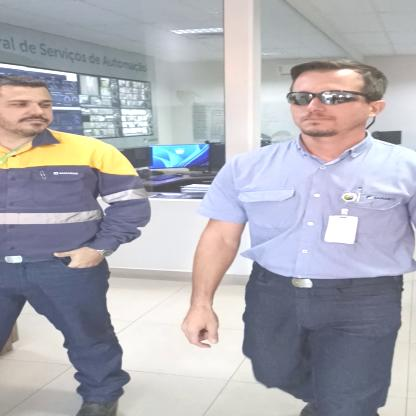Operacional: (0, 135, 153, 256)
